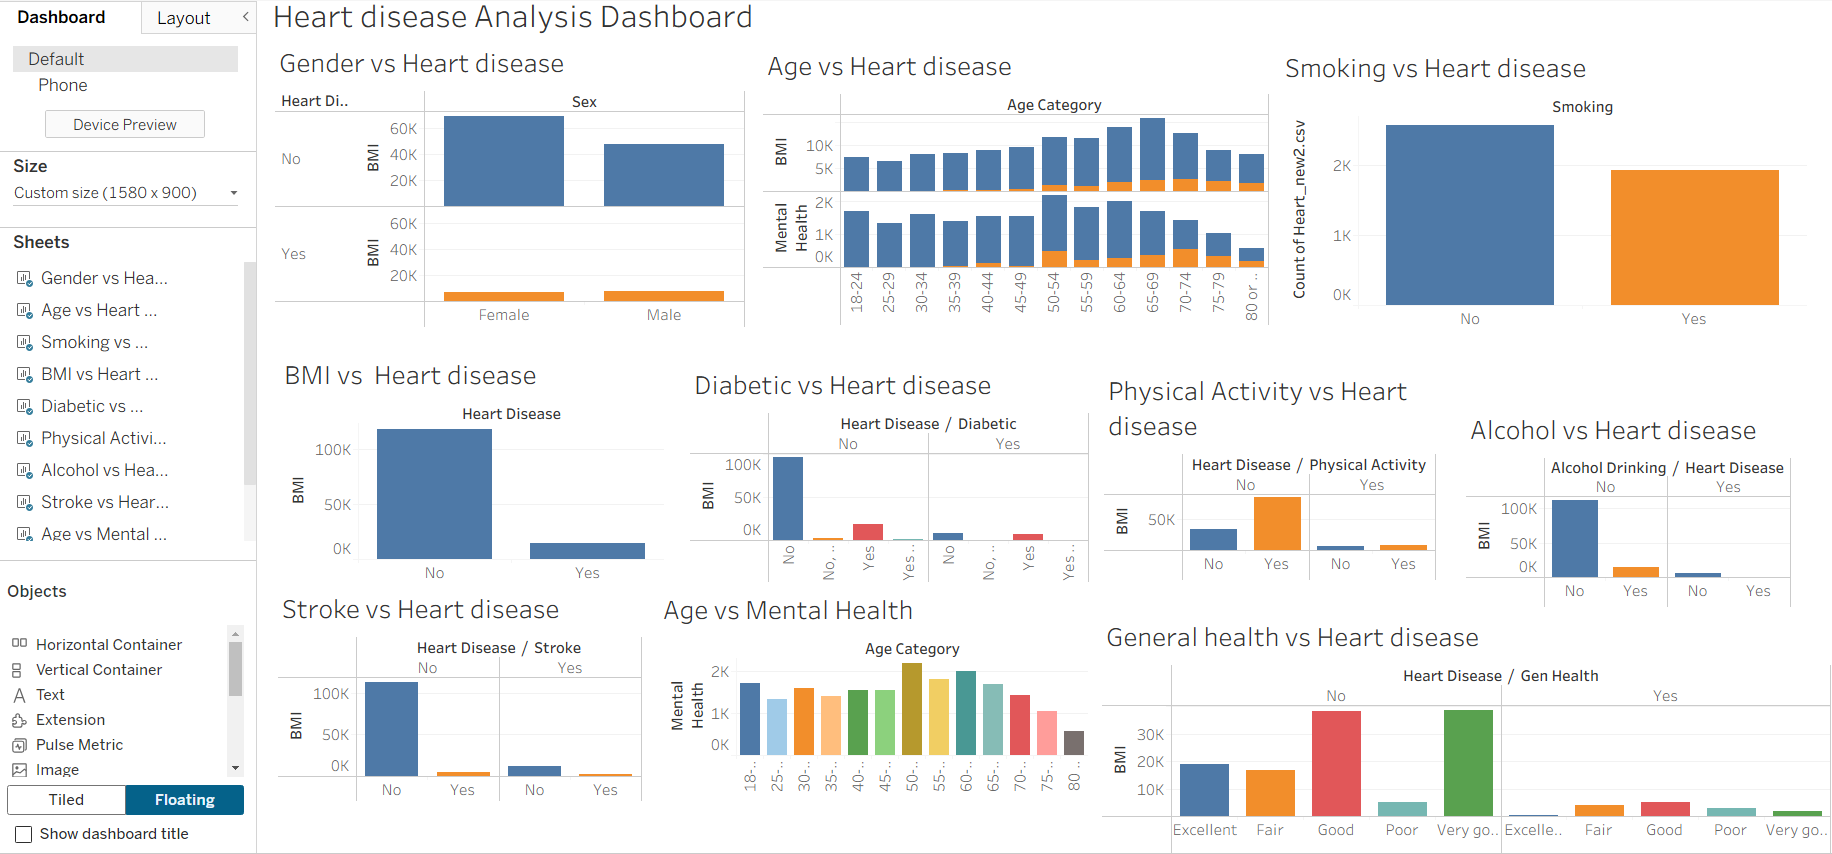

This screenshot's page, from the dashboard's own definition file:
{"tool":"tableau","page":{"name":"Heart Disease Analysis Dash board ","canvas":[1580,900],"ordinal":0},"visuals":[{"type":"title","box":[8,8,1564,50]},{"type":"worksheet","title":"Gender vs Heart Disease ","mark":"Automatic","rows":["HeartDisease","BMI"],"cols":["Sex"],"box":[18,59,470,287]},{"type":"worksheet","title":"Age vs Heart Disease ","mark":"Automatic","rows":["BMI","MentalHealth"],"cols":["AgeCategory"],"box":[506,62,506,283]},{"type":"worksheet","title":"Smoking vs Heart Disease ","mark":"Automatic","rows":["Heart_new2.csv_DDE0C53C243642C4964181B203B1B03C"],"cols":["Smoking"],"box":[1024,64,526,284]},{"type":"worksheet","title":"BMI vs Heart Disease ","mark":"Automatic","rows":["BMI"],"cols":["HeartDisease"],"box":[23,371,384,231]},{"type":"worksheet","title":"Diabetic vs Heart Disease ","mark":"Automatic","rows":["BMI"],"cols":["HeartDisease","Diabetic"],"box":[433,381,399,221]},{"type":"worksheet","title":"Physical Activity vs Heart Disease ","mark":"Automatic","rows":["BMI"],"cols":["HeartDisease","PhysicalActivity"],"box":[847,387,332,212]},{"type":"worksheet","title":"Alcohol vs Heart Disease ","mark":"Automatic","rows":["BMI"],"cols":["AlcoholDrinking","HeartDisease"],"box":[1209,426,325,200]},{"type":"worksheet","title":"Stroke vs Heart Disease","mark":"Automatic","rows":["BMI"],"cols":["HeartDisease","Stroke"],"box":[21,605,364,215]},{"type":"worksheet","title":"Age vs Mental Health ","mark":"Automatic","rows":["MentalHealth"],"cols":["AgeCategory"],"box":[402,606,429,206]},{"type":"worksheet","title":"General Health vs Heart Disease ","mark":"Automatic","rows":["BMI"],"cols":["HeartDisease","GenHealth"],"box":[845,633,729,242]}]}

Visuals, with their boxes on the page's 1580x900 design canvas (x1, y1, x2, y2). These are canvas units, not pixel positions in the 1832x854 screenshot, which may show the page scaled, cropped or inside an application window:
title: 8/8/1572/58
"Gender vs Heart Disease " worksheet: 18/59/488/346
"Age vs Heart Disease " worksheet: 506/62/1012/345
"Smoking vs Heart Disease " worksheet: 1024/64/1550/348
"BMI vs Heart Disease " worksheet: 23/371/407/602
"Diabetic vs Heart Disease " worksheet: 433/381/832/602
"Physical Activity vs Heart Disease " worksheet: 847/387/1179/599
"Alcohol vs Heart Disease " worksheet: 1209/426/1534/626
"Stroke vs Heart Disease" worksheet: 21/605/385/820
"Age vs Mental Health " worksheet: 402/606/831/812
"General Health vs Heart Disease " worksheet: 845/633/1574/875
